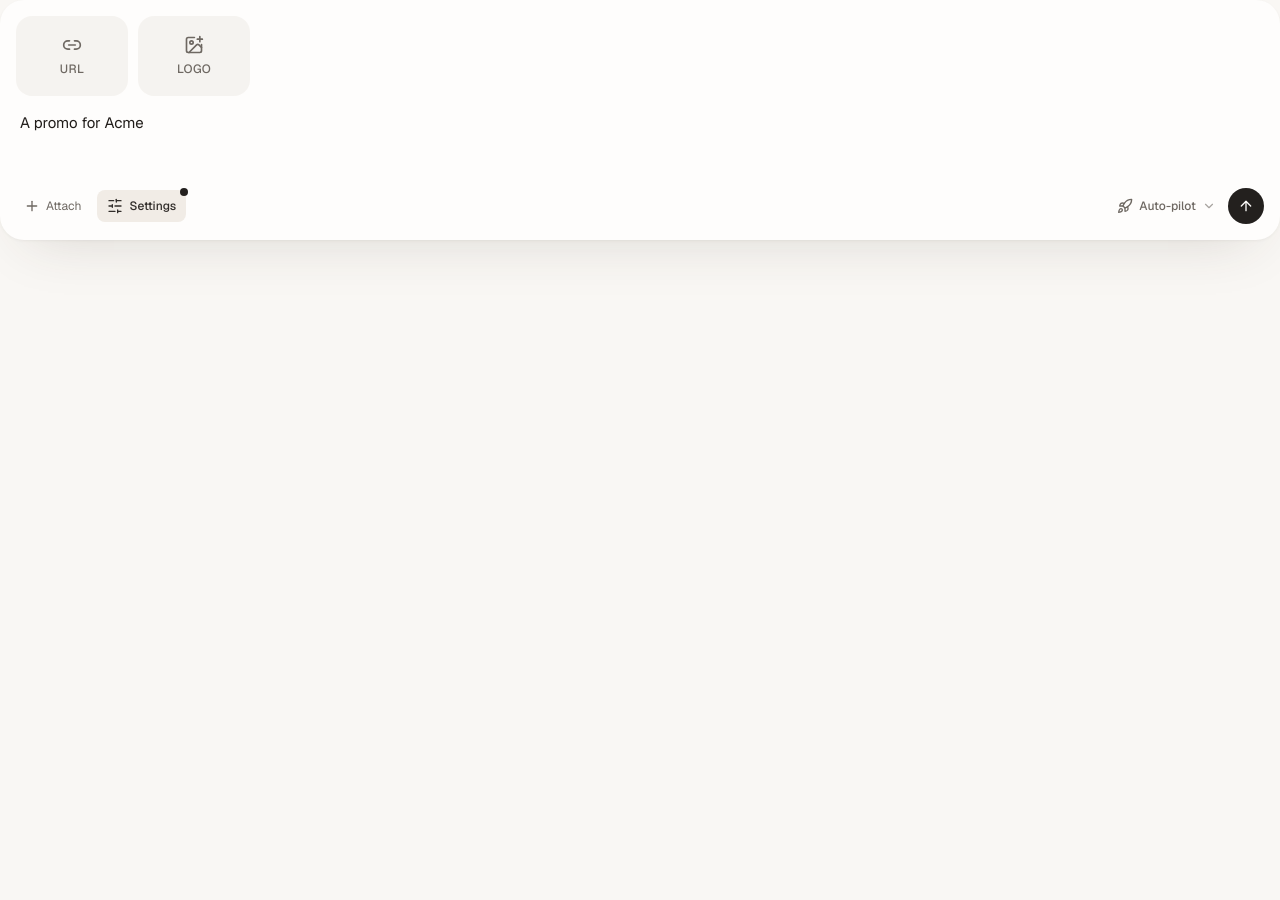
Test: <HomeComposer> video-settings persistence › restores the audio toggles from localStorage on mount
Click the button with aria-label "video settings" at (142, 206), box x1=97 y1=190 x2=186 y2=222
(page scrolled)
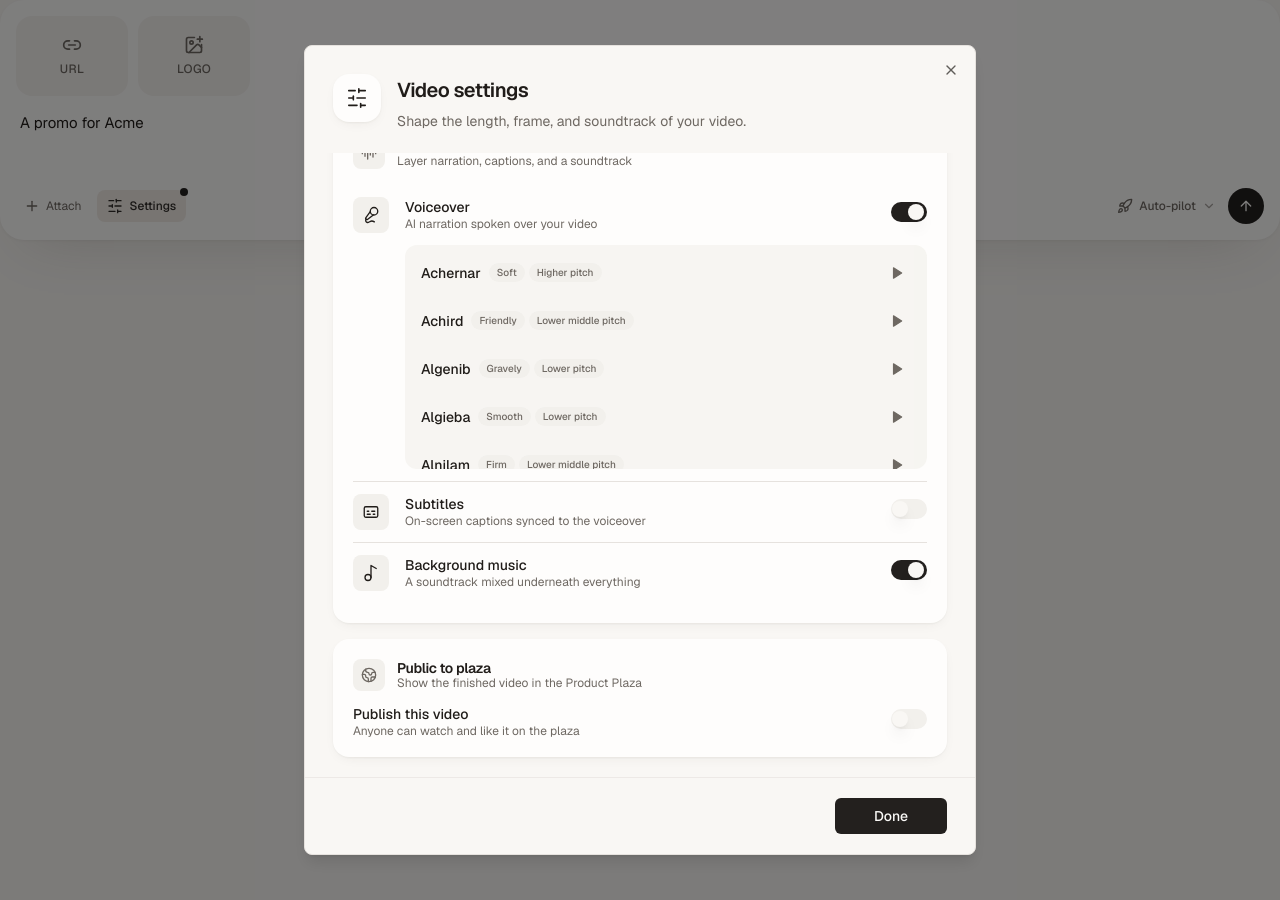
Check: the switch named "voiceover" is checked, box x1=891 y1=202 x2=927 y2=222
Check: the switch named "background music" is checked, box x1=891 y1=560 x2=927 y2=580
